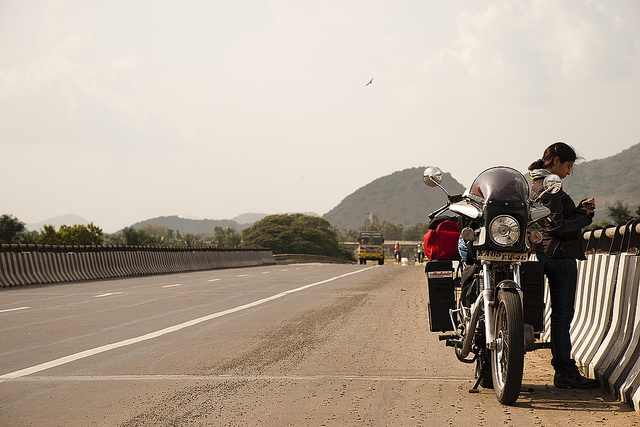non-vehicle: (422, 165, 562, 403), (394, 248, 401, 264), (417, 249, 424, 262)
